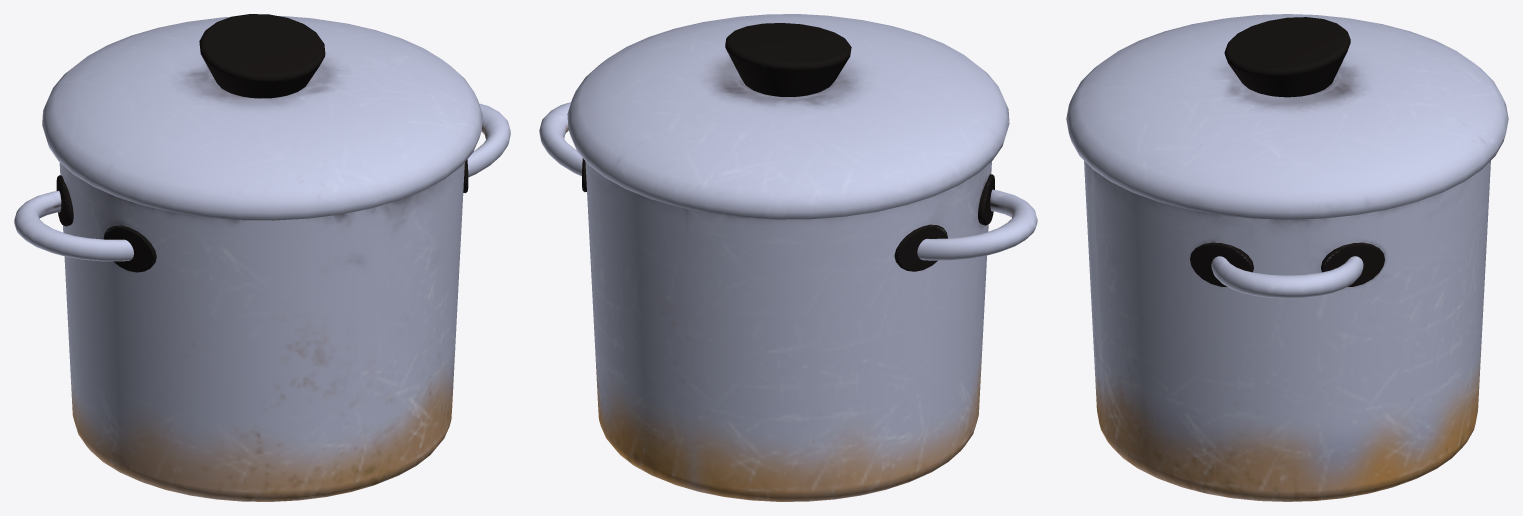
Rendered from SM_Pot01.fbx.
The picture shows the model from 3 angles, left to right: view 1: azimuth 30°, elevation 25°; view 2: azimuth 150°, elevation 25°; view 3: azimuth 270°, elevation 25°; orthographic projection.
Parts seen in each view (by area): view 1: SM_Pot01_LOD0; view 2: SM_Pot01_LOD0; view 3: SM_Pot01_LOD0.
Boxes of the visible parts, left/top/right/bottom form: SM_Pot01_LOD0: left=14, top=14, right=510, bottom=501; SM_Pot01_LOD0: left=539, top=14, right=1037, bottom=501; SM_Pot01_LOD0: left=1066, top=14, right=1508, bottom=501.
Size of the model in its own units: 49.36 by 39.36 by 38.39.
1 material, 1 textured.
